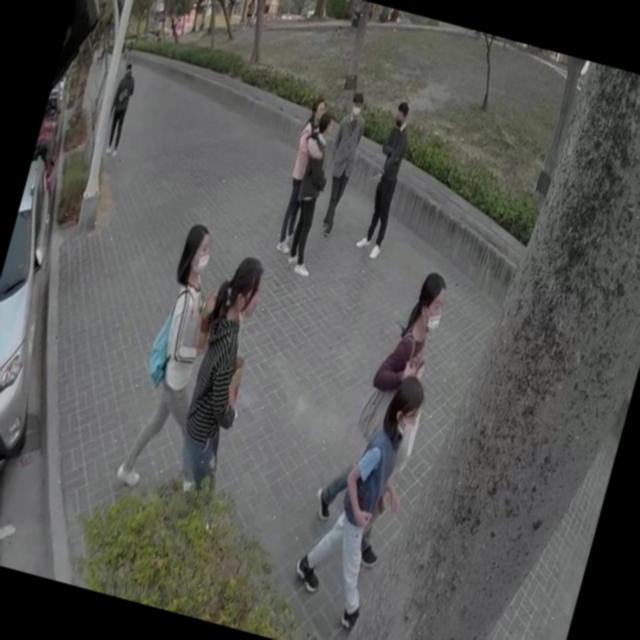person: (298, 248, 468, 572), (278, 354, 438, 640), (109, 214, 244, 505), (162, 241, 286, 498), (268, 102, 352, 284), (270, 92, 342, 264), (355, 98, 419, 260), (312, 90, 373, 238), (98, 54, 148, 159)
